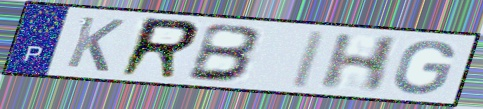B: (184, 21, 266, 84)
G: (390, 39, 458, 97)
H: (315, 32, 403, 93)
I: (286, 28, 332, 90)
K: (62, 14, 128, 74)
R: (114, 15, 204, 81)
